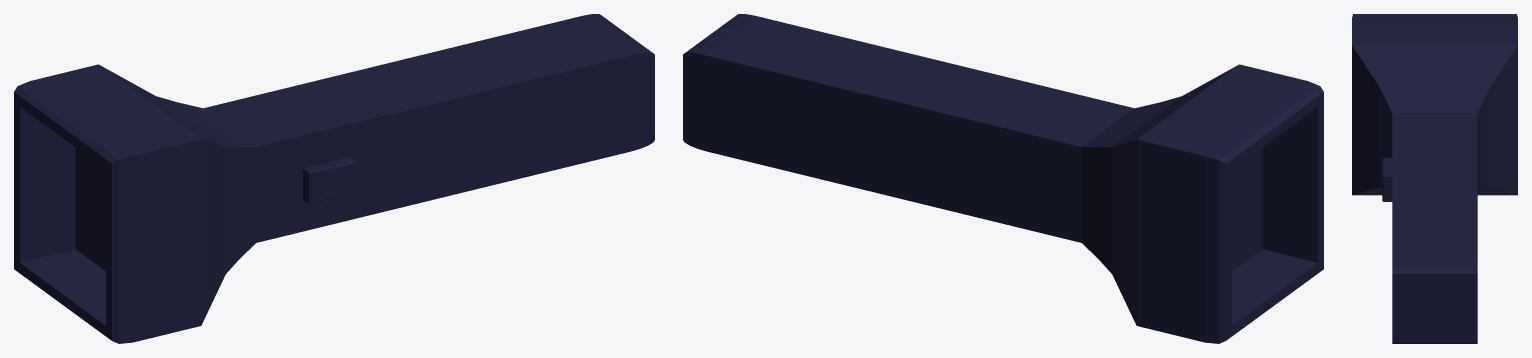
3 views of the same model, side by side, from view 1: azimuth 30°, elevation 25°; view 2: azimuth 150°, elevation 25°; view 3: azimuth 270°, elevation 25° (orthographic). The views are drawn at different scales.
Parts seen in each view (by area): view 1: Cube; view 2: Cube; view 3: Cube.
Part boxes in pixels (x1=…): Cube: x1=14, y1=14, x2=654, y2=343; Cube: x1=683, y1=14, x2=1323, y2=343; Cube: x1=1352, y1=14, x2=1517, y2=343.
Bounding box in the file's own units: 12.34 × 3.88 × 3.88.
